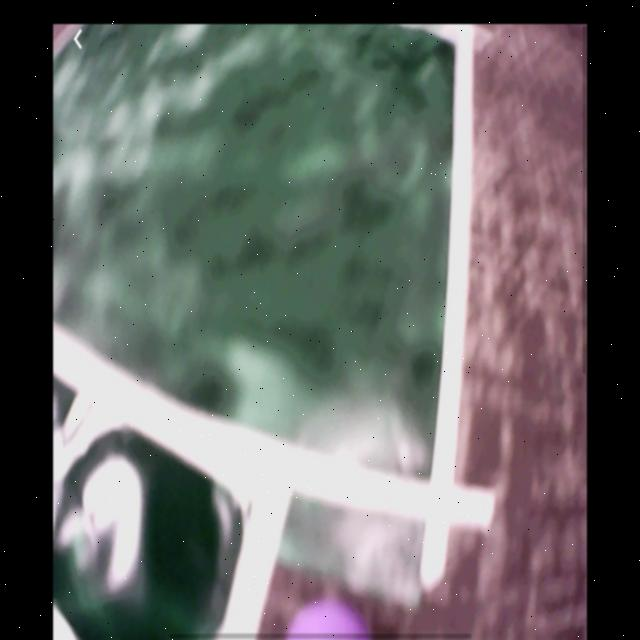ball: (285, 594, 372, 639)
